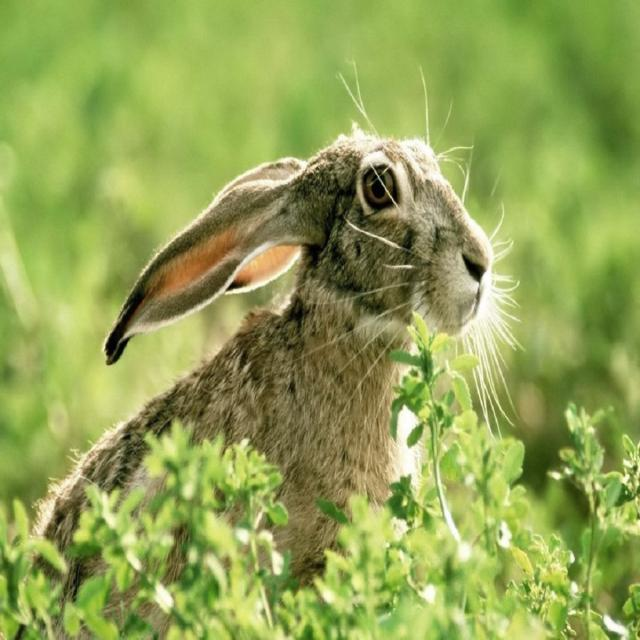hare: (33, 130, 494, 584)
